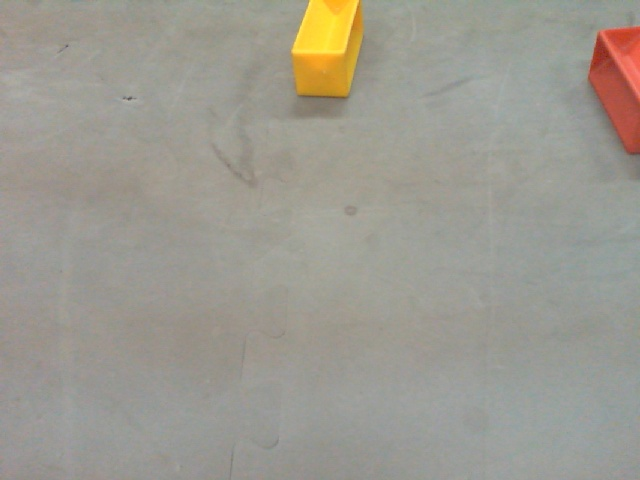RedSample: (586, 23, 640, 151)
YellowSample: (291, 1, 365, 94)
